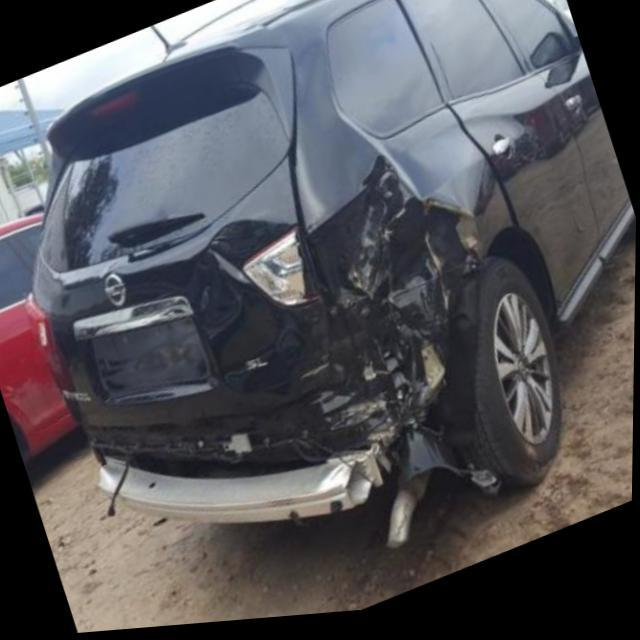crack: (80, 407, 324, 481)
lamp broken: (212, 228, 316, 311)
no part: (281, 159, 503, 508)
